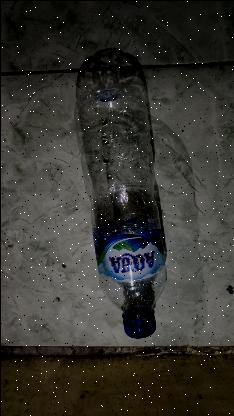Plastic Bottle: (73, 48, 167, 338)
